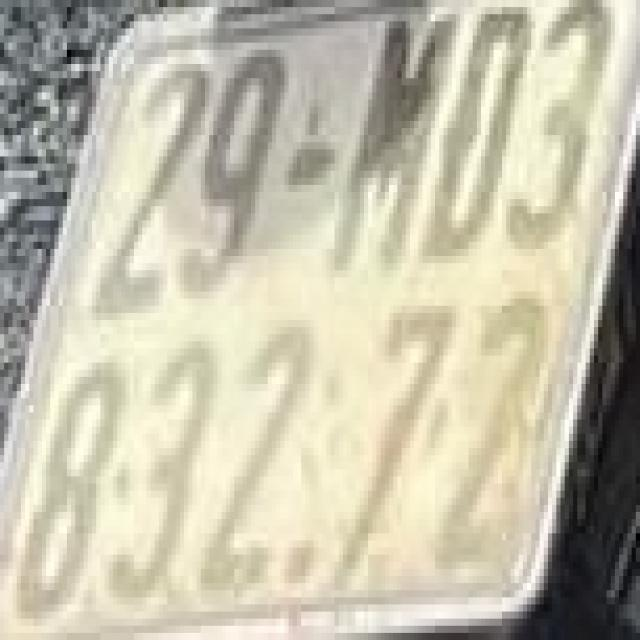2: (439, 284, 548, 562), (92, 50, 205, 313), (213, 313, 314, 583)
3: (102, 324, 212, 608), (506, 0, 611, 256)
8: (10, 348, 120, 618)
9: (184, 39, 293, 302)
M: (326, 14, 452, 278)
